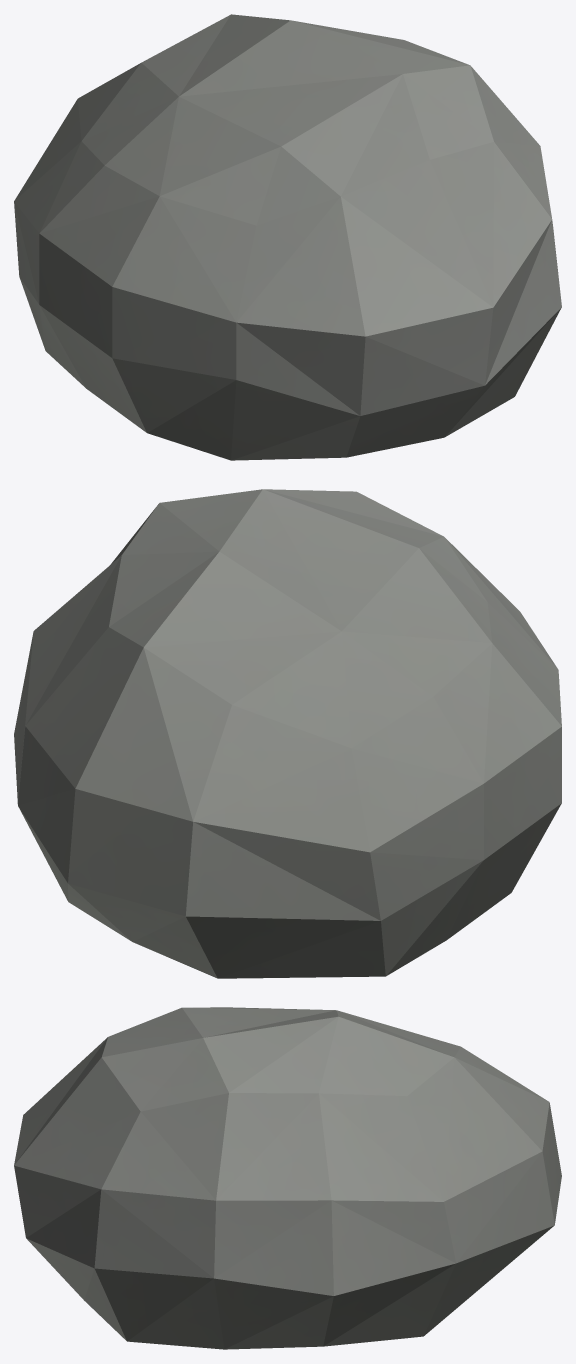
Rendered from stone.02.glb.
3 views of the same model, one above another, from view 1: azimuth 30°, elevation 25°; view 2: azimuth 150°, elevation 25°; view 3: azimuth 270°, elevation 25° (orthographic). The views are drawn at different scales.
Visible parts, largest first — view 1: Roundcube.001; view 2: Roundcube.001; view 3: Roundcube.001.
Boxes of the visible parts, bbox=[...] form: Roundcube.001: bbox=[14, 14, 561, 460]; Roundcube.001: bbox=[14, 489, 561, 978]; Roundcube.001: bbox=[14, 1007, 561, 1349].
Size of the model in its own units: 0.3048 by 0.2067 by 0.3673.
1 material, 1 textured.
